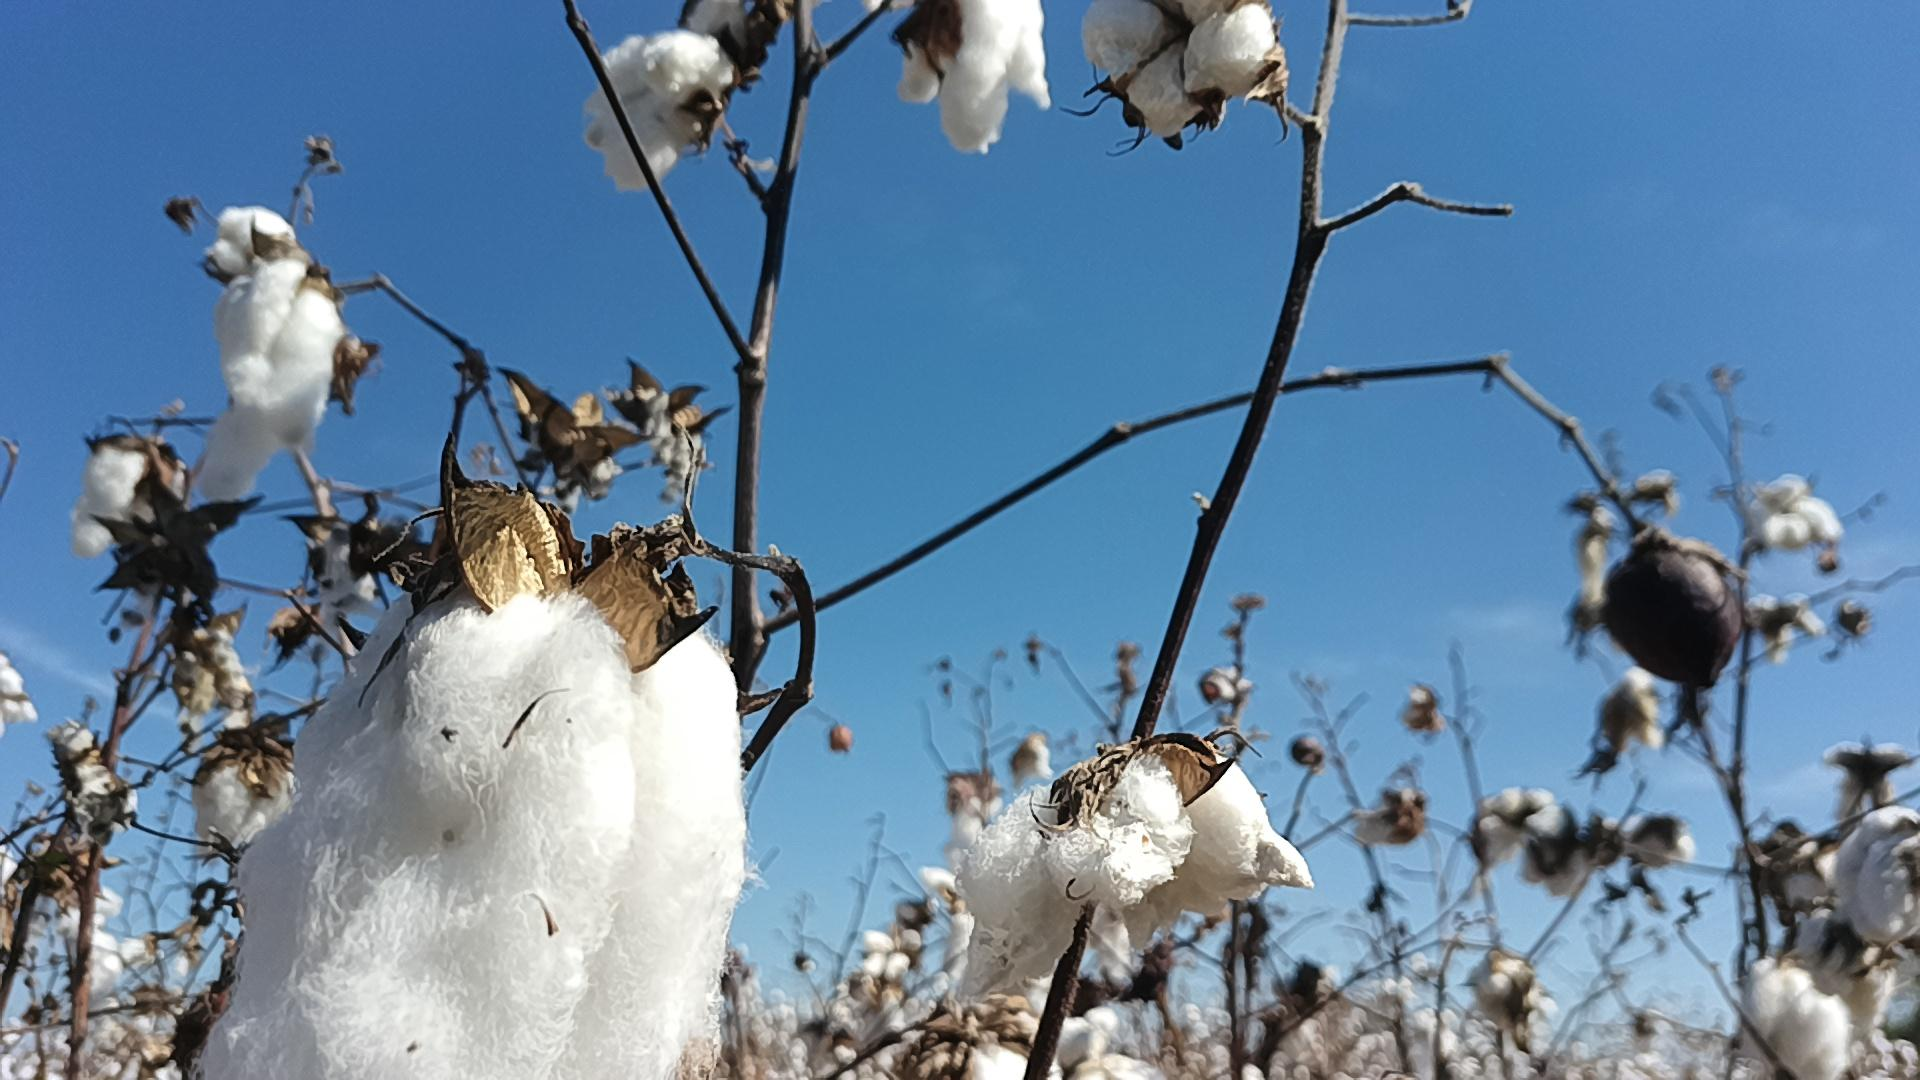cotton_ready: (194, 588, 748, 1080), (953, 750, 1323, 1014), (196, 258, 348, 505), (1085, 0, 1283, 136), (584, 32, 742, 200), (899, 0, 1058, 150), (1751, 926, 1898, 1080), (70, 433, 200, 563), (1828, 806, 1920, 947), (194, 742, 301, 862), (674, 0, 770, 91), (895, 1035, 1065, 1080), (200, 206, 295, 284)
